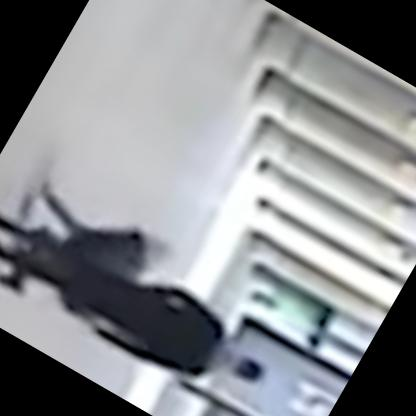Human Body: (0, 185, 287, 415)
